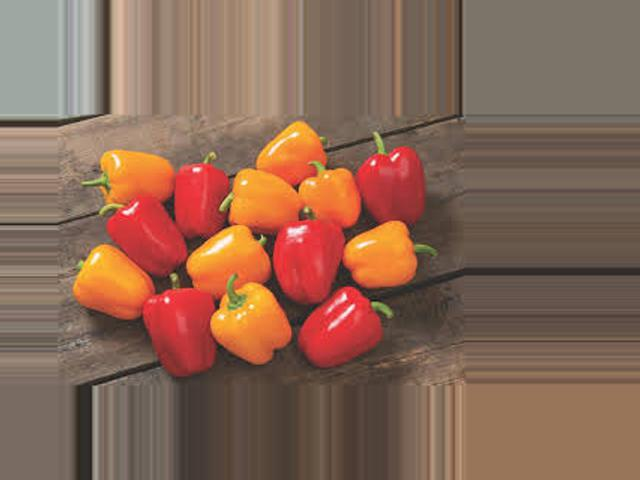bell_pepper: (68, 243, 174, 333)
